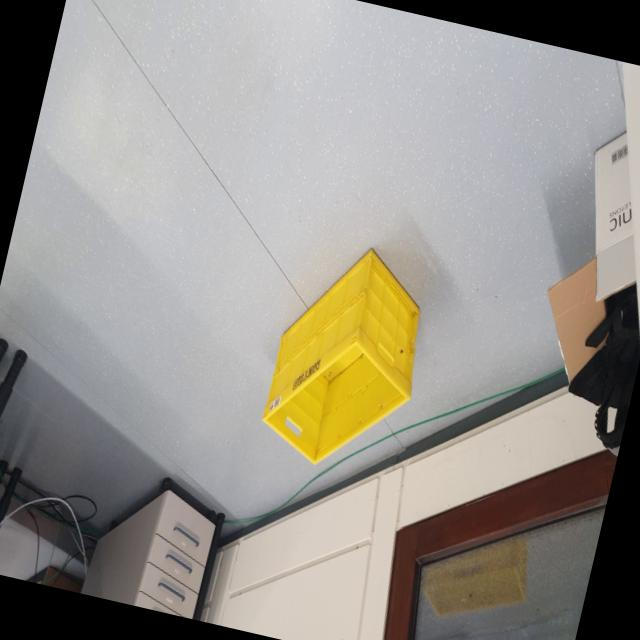box: (246, 202, 452, 487)
